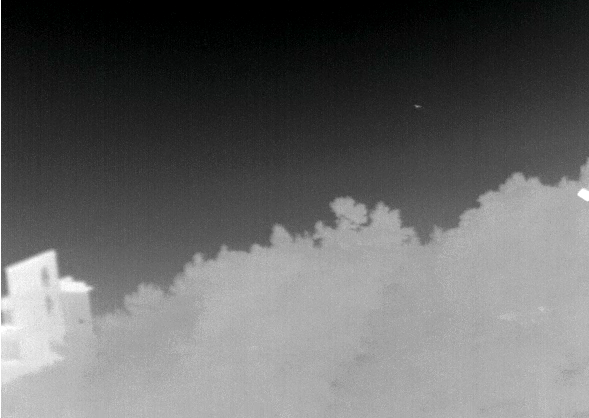dim target: (413, 102, 422, 109)
